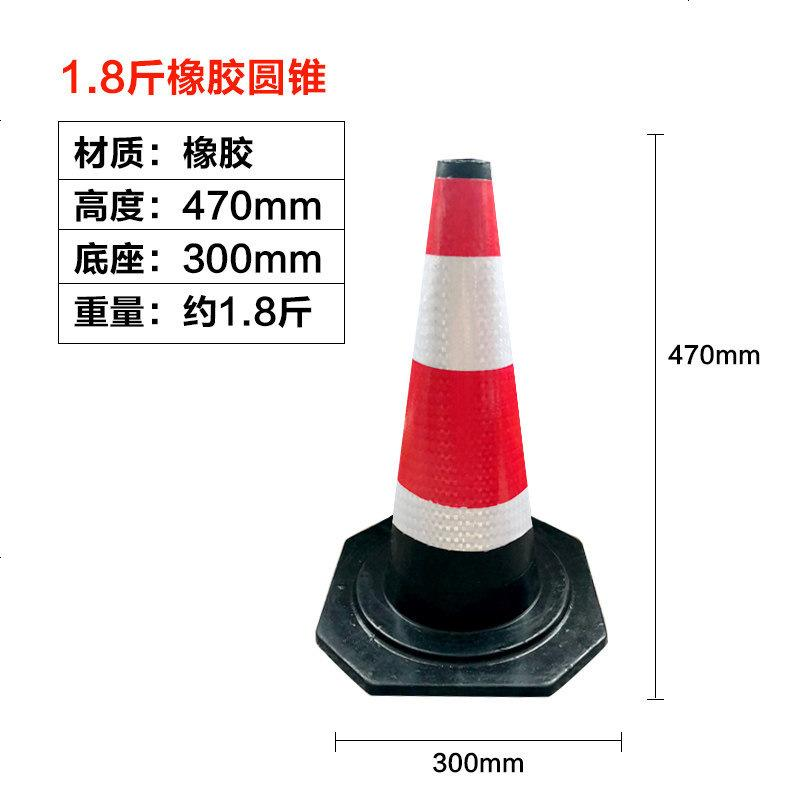sign: (338, 152, 628, 703)
